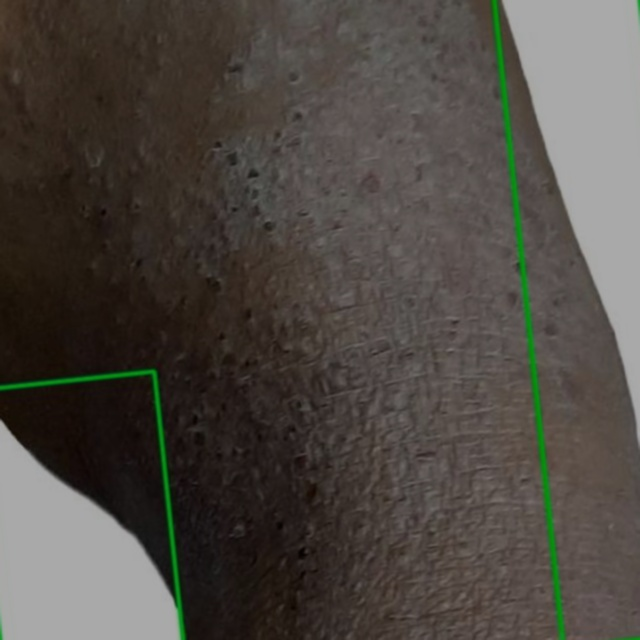Contact Dermatitis: (494, 0, 639, 639), (0, 372, 183, 639)
